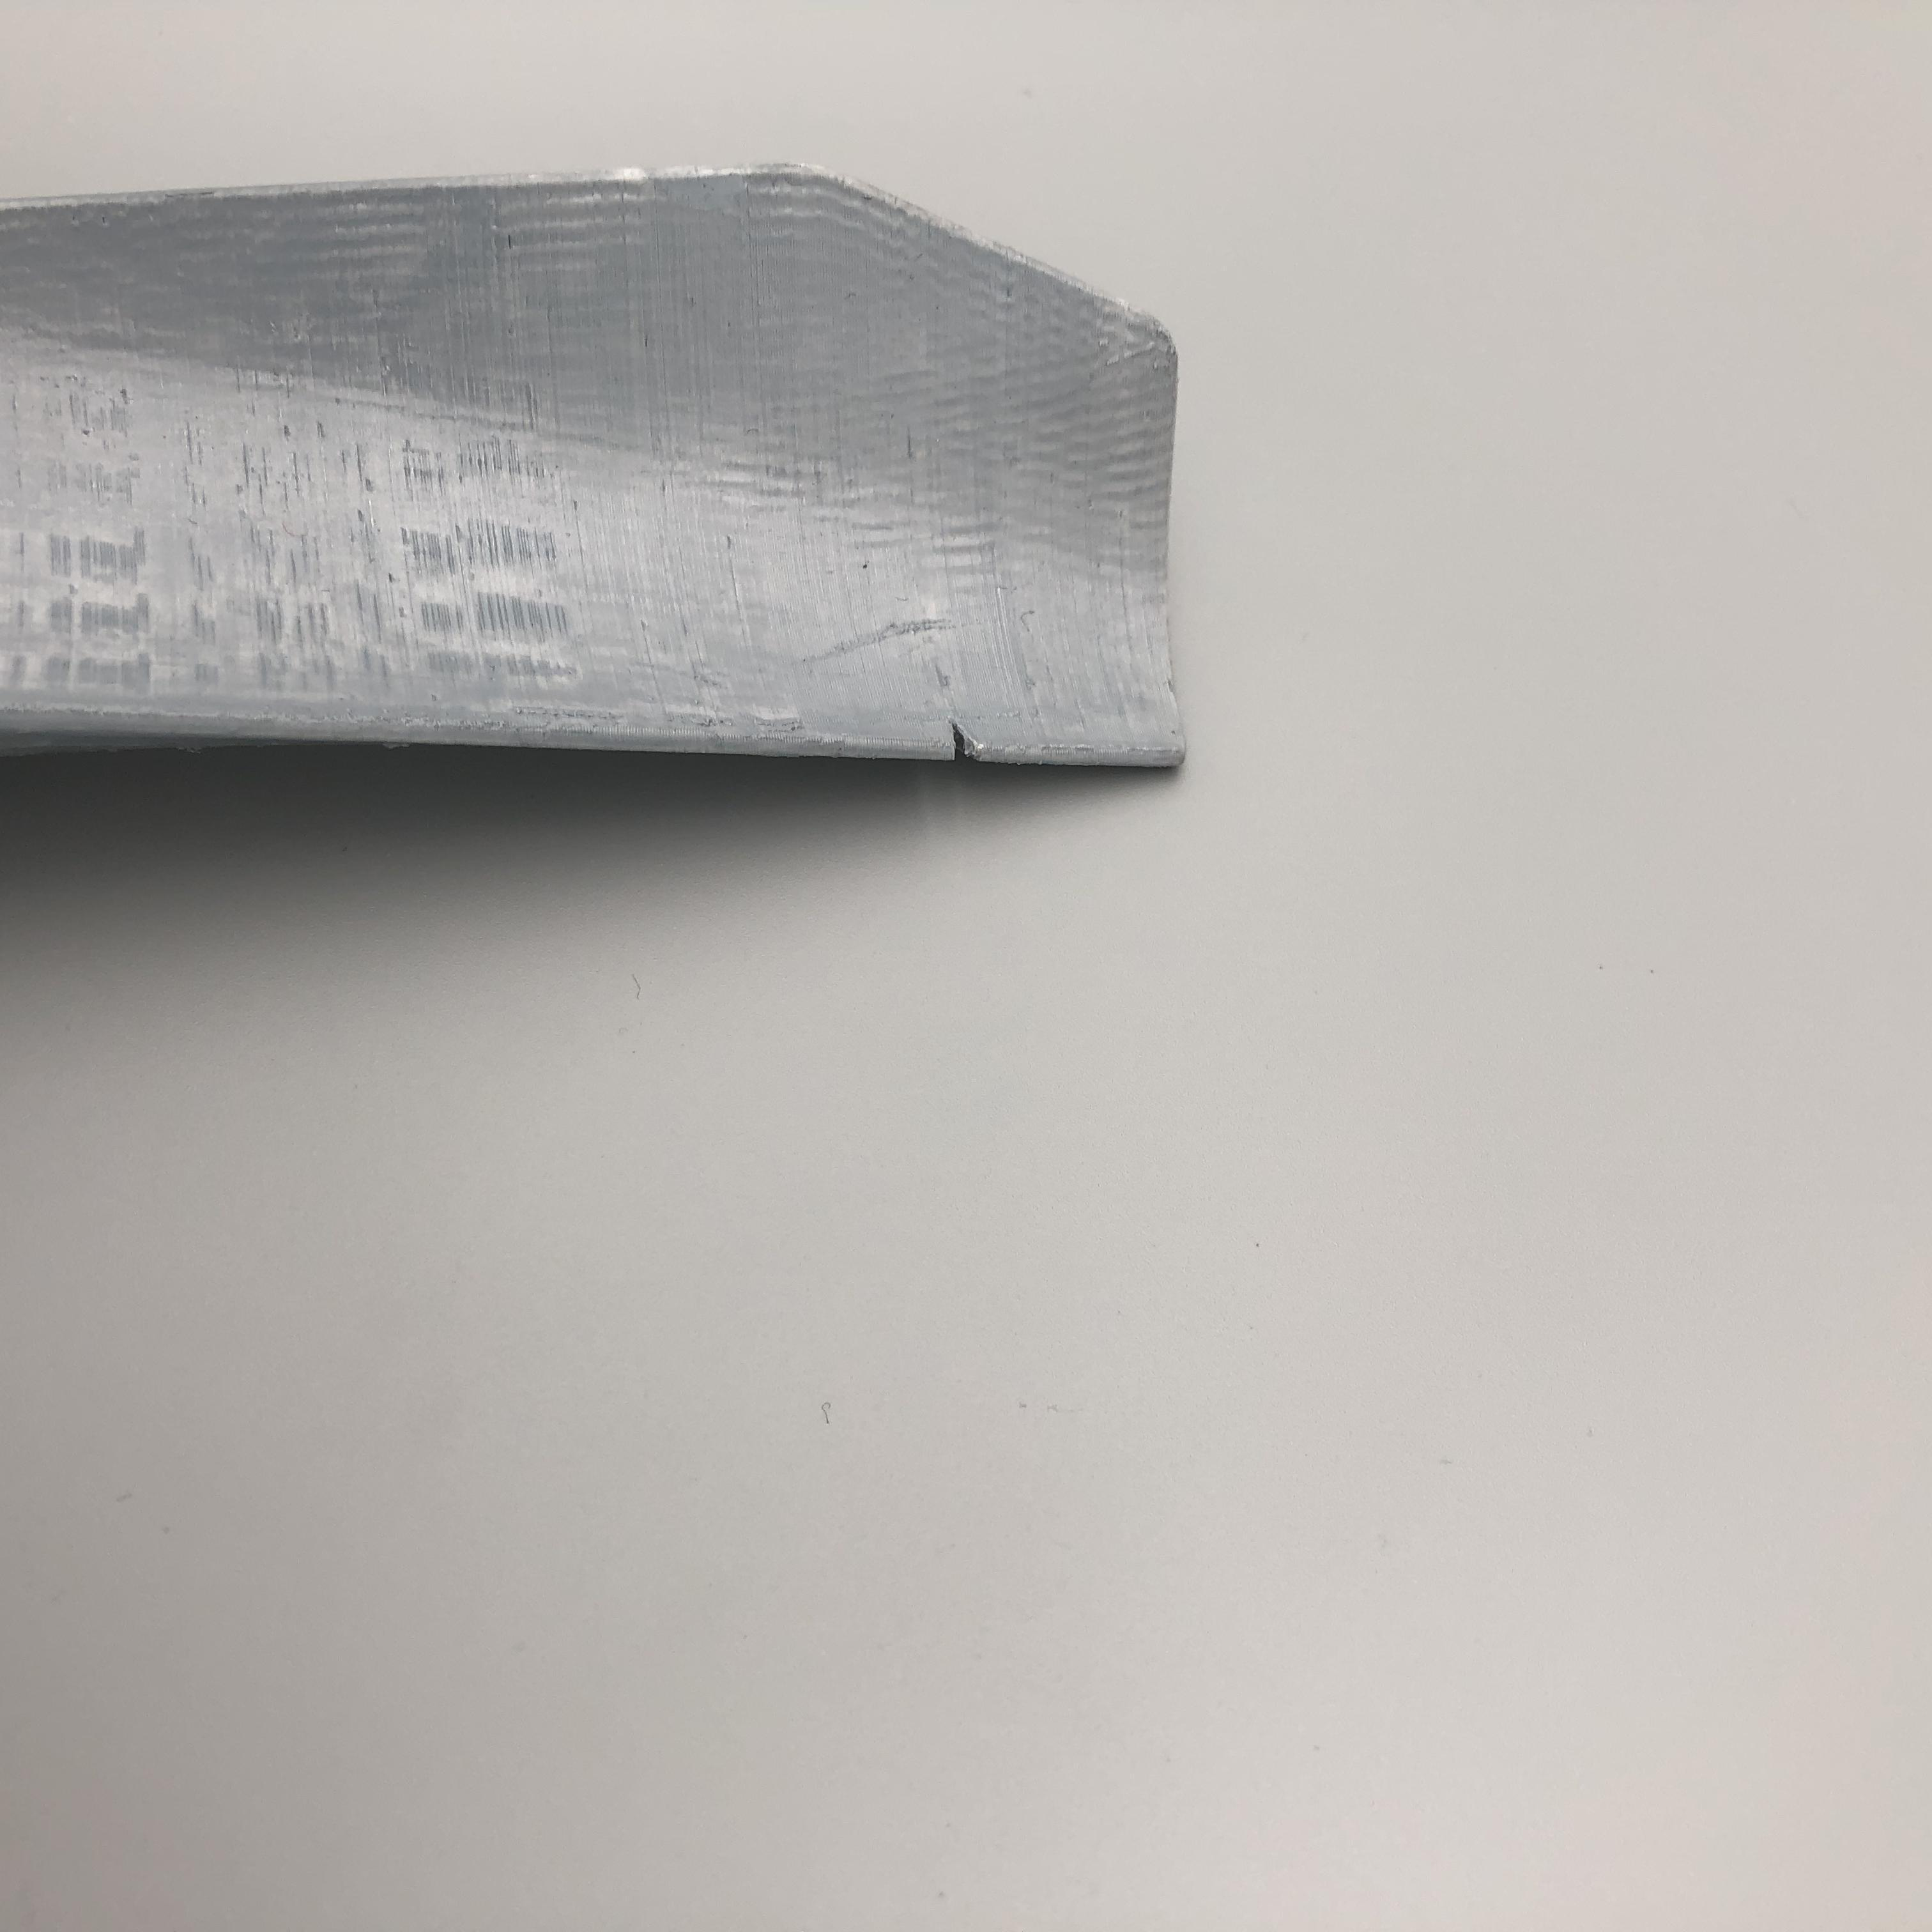groove: (934, 722, 996, 763)
